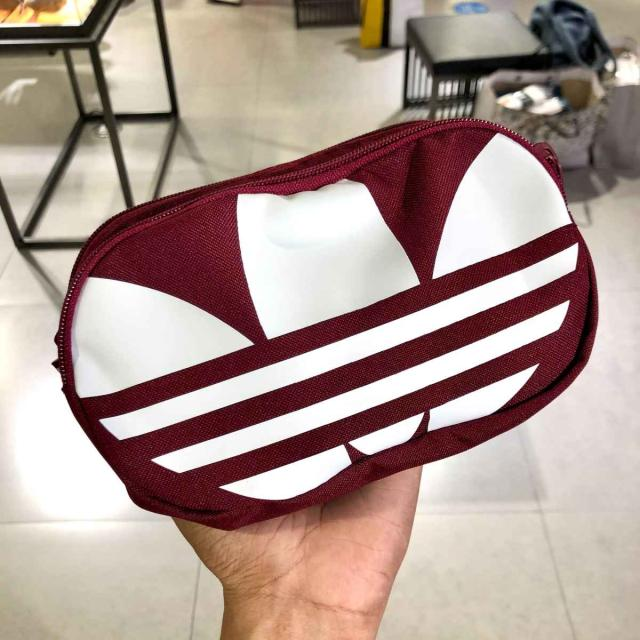handbag: (46, 117, 599, 529)
